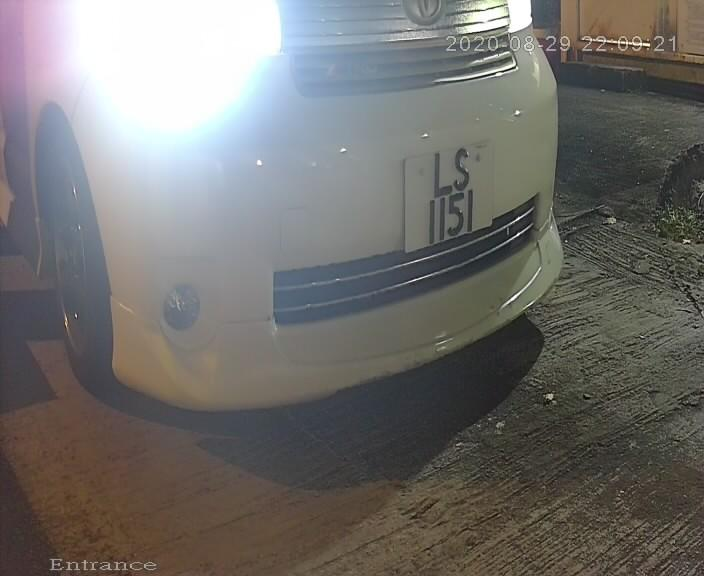License Plate: (406, 124, 507, 273)
